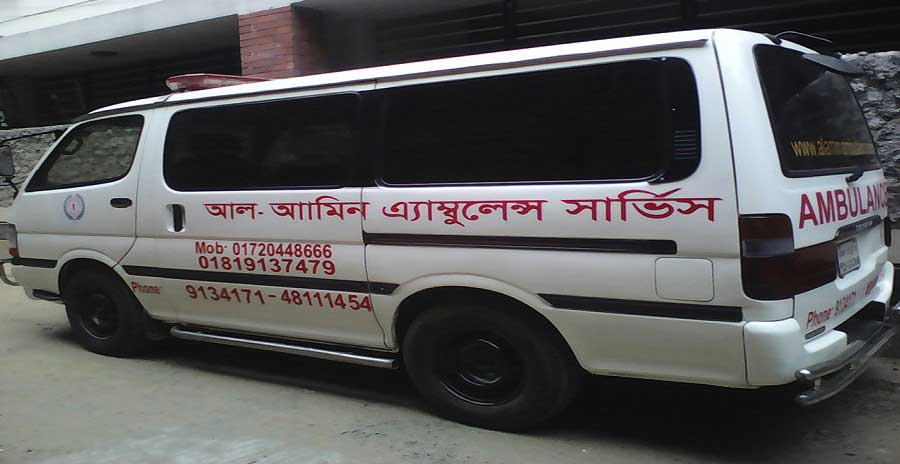ambulance: (1, 26, 898, 431)
